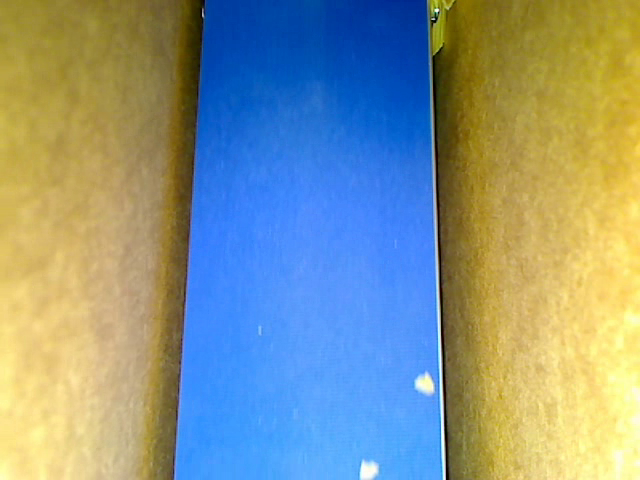penne: (427, 1, 448, 60), (439, 1, 454, 14)
